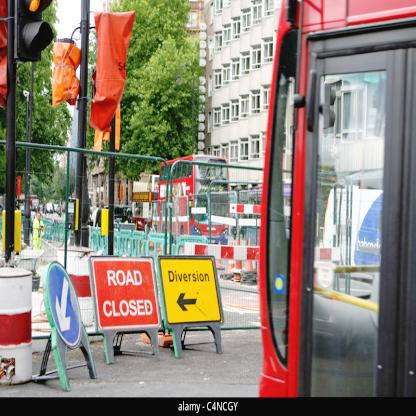Keep left: (38, 254, 90, 350)
